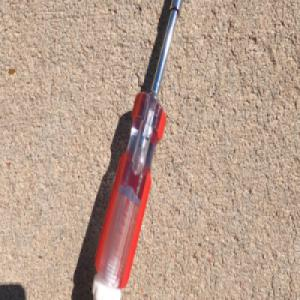Screwdriver: (90, 0, 183, 300)
